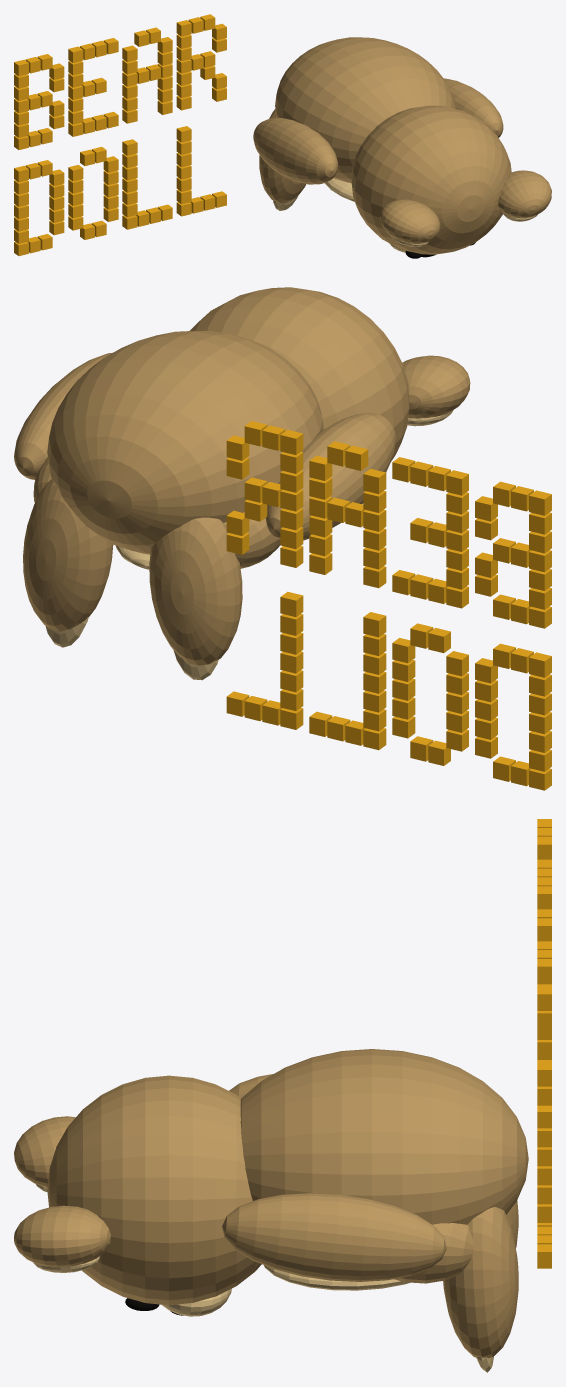
File: bear_doll.obj
The picture shows the model from 3 angles, top to bottom: view 1: azimuth 30°, elevation 25°; view 2: azimuth 150°, elevation 25°; view 3: azimuth 270°, elevation 25°; orthographic projection. The views are drawn at different scales.
Parts seen in each view (by area): view 1: step_01_head_round_sphere, step_01_body_large_ellipsoid, step_06_arm_drooping_ellipsoid_left, step_04_ear_outer_sphere_left, step_04_ear_outer_sphere_right, step_06_arm_drooping_ellipsoid_right, step_07_foot_forward_ellipsoid_left, step_08_text_doll_L_0_0, step_08_text_doll_L_6_0, step_08_text_doll_L_1_0, step_08_text_doll_L_3_0, step_08_text_doll_L_4_0 (+6 smaller); view 2: step_01_body_large_ellipsoid, step_01_head_round_sphere, step_07_foot_forward_ellipsoid_left, step_07_foot_forward_ellipsoid_right, step_06_arm_drooping_ellipsoid_left, step_04_ear_outer_sphere_left, step_06_arm_drooping_ellipsoid_right, step_07_side_leg_round_hip_left, step_08_text_doll_L_0_0, step_08_text_doll_L_3_0, step_08_text_doll_L_2_0, step_08_text_doll_L_4_0 (+6 smaller); view 3: step_01_body_large_ellipsoid, step_01_head_round_sphere, step_06_arm_drooping_ellipsoid_right, step_07_foot_forward_ellipsoid_right, step_04_ear_outer_sphere_right, step_04_ear_outer_sphere_left, step_07_side_leg_round_hip_right, step_05_belly_patch_flattened_sphere, step_02_muzzle_flattened_sphere.
Boxes of the visible parts, x1=… form: step_01_head_round_sphere: x1=351, y1=105, x2=511, y2=254; step_01_body_large_ellipsoid: x1=275, y1=37, x2=455, y2=182; step_06_arm_drooping_ellipsoid_left: x1=253, y1=118, x2=338, y2=184; step_04_ear_outer_sphere_left: x1=380, y1=199, x2=440, y2=243; step_04_ear_outer_sphere_right: x1=498, y1=170, x2=551, y2=218; step_06_arm_drooping_ellipsoid_right: x1=444, y1=78, x2=503, y2=137; step_07_foot_forward_ellipsoid_left: x1=259, y1=109, x2=306, y2=203; step_08_text_doll_L_0_0: x1=122, y1=126, x2=191, y2=155; step_08_text_doll_L_6_0: x1=122, y1=202, x2=191, y2=229; step_08_text_doll_L_1_0: x1=122, y1=140, x2=191, y2=168; step_08_text_doll_L_3_0: x1=122, y1=165, x2=191, y2=192; step_08_text_doll_L_4_0: x1=122, y1=177, x2=191, y2=204; step_01_body_large_ellipsoid: x1=47, y1=331, x2=323, y2=554; step_01_head_round_sphere: x1=190, y1=287, x2=409, y2=460; step_07_foot_forward_ellipsoid_left: x1=149, y1=517, x2=242, y2=665; step_07_foot_forward_ellipsoid_right: x1=23, y1=479, x2=113, y2=631; step_06_arm_drooping_ellipsoid_left: x1=265, y1=413, x2=395, y2=540; step_04_ear_outer_sphere_left: x1=402, y1=355, x2=470, y2=418; step_06_arm_drooping_ellipsoid_right: x1=14, y1=352, x2=112, y2=479; step_07_side_leg_round_hip_left: x1=224, y1=512, x2=280, y2=568; step_08_text_doll_L_0_0: x1=280, y1=591, x2=386, y2=637; step_08_text_doll_L_3_0: x1=280, y1=651, x2=386, y2=693; step_08_text_doll_L_2_0: x1=280, y1=632, x2=386, y2=674; step_08_text_doll_L_4_0: x1=280, y1=670, x2=386, y2=712; step_01_body_large_ellipsoid: x1=240, y1=1049, x2=528, y2=1224; step_01_head_round_sphere: x1=47, y1=1075, x2=261, y2=1305; step_06_arm_drooping_ellipsoid_right: x1=222, y1=1193, x2=446, y2=1281; step_07_foot_forward_ellipsoid_right: x1=443, y1=1207, x2=518, y2=1358; step_04_ear_outer_sphere_right: x1=14, y1=1205, x2=110, y2=1266; step_04_ear_outer_sphere_left: x1=14, y1=1116, x2=75, y2=1187; step_07_side_leg_round_hip_right: x1=394, y1=1223, x2=473, y2=1283; step_05_belly_patch_flattened_sphere: x1=264, y1=1265, x2=409, y2=1290; step_02_muzzle_flattened_sphere: x1=161, y1=1288, x2=231, y2=1316.
Size of the model in its own units: 122 by 56.74 by 92.74.
